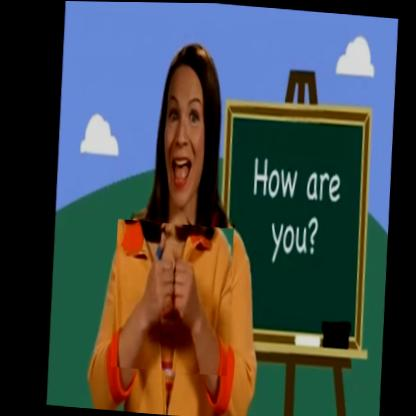HowAreYou: (107, 219, 236, 376)
